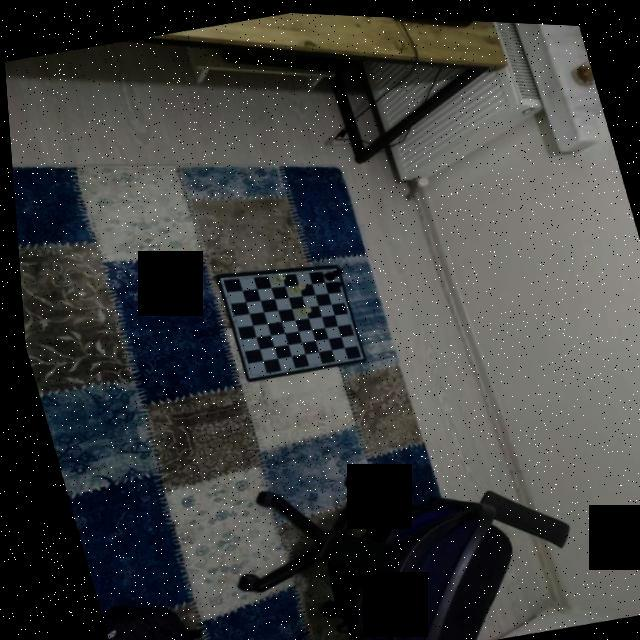chess-table-corners: (210, 272, 227, 284), (348, 348, 360, 358), (240, 368, 250, 378), (324, 264, 333, 272)
